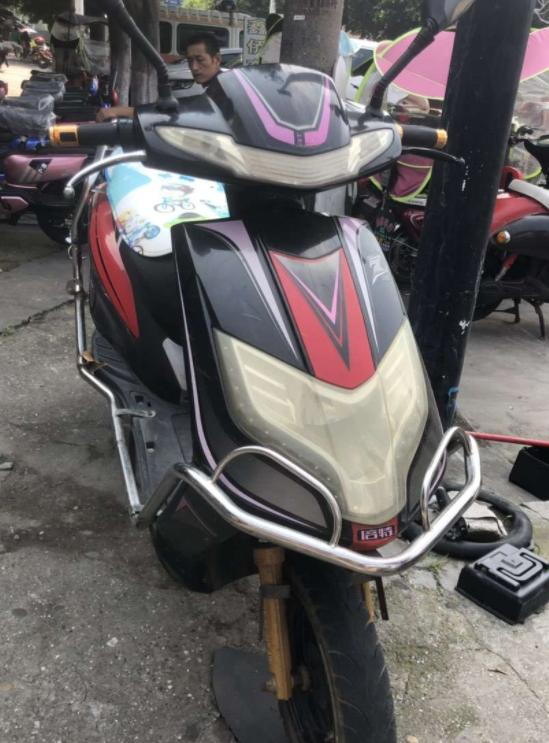电动车: (36, 4, 474, 742)
